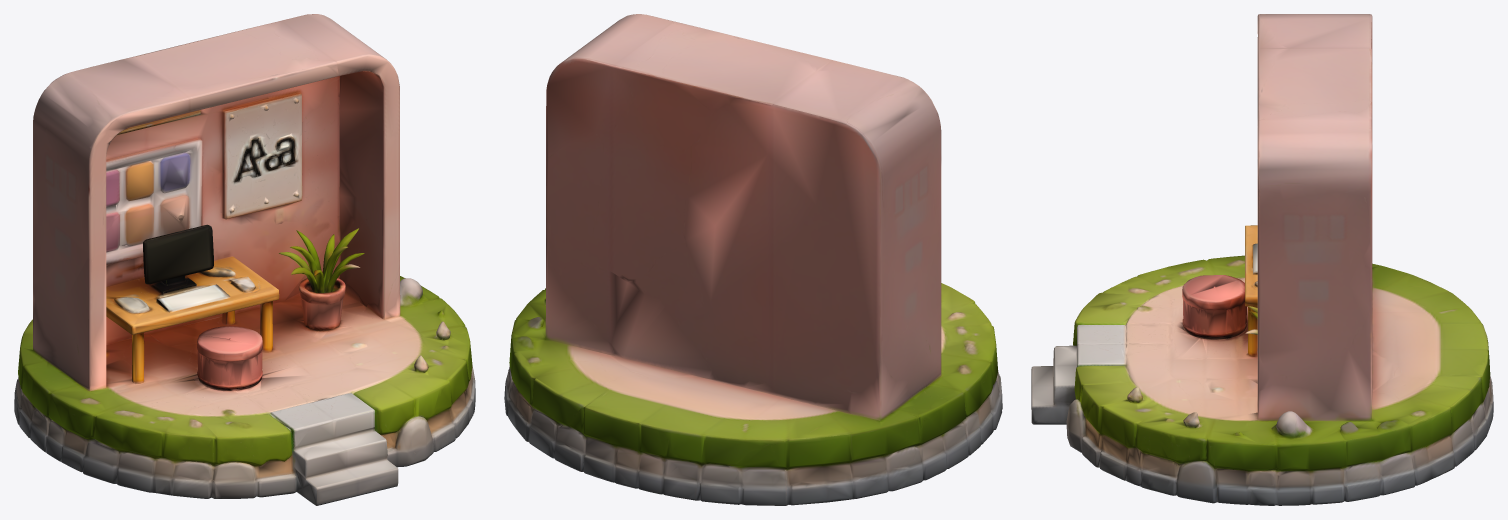
The model's file is graphic_design_island.glb.
3 renders of one model, left to right at view 1: azimuth 30°, elevation 25°; view 2: azimuth 150°, elevation 25°; view 3: azimuth 270°, elevation 25°, orthographic. The views are drawn at different scales.
Parts seen in each view (by area): view 1: node_0; view 2: node_0; view 3: node_0.
Part boxes in pixels (left/top/right/bottom): node_0: left=14, top=14, right=475, bottom=505; node_0: left=504, top=14, right=1002, bottom=505; node_0: left=1031, top=14, right=1493, bottom=505.
Bounding box in the file's own units: 0.9231 × 0.728 × 0.9237.
Materials: 1 (1 with a texture image).
